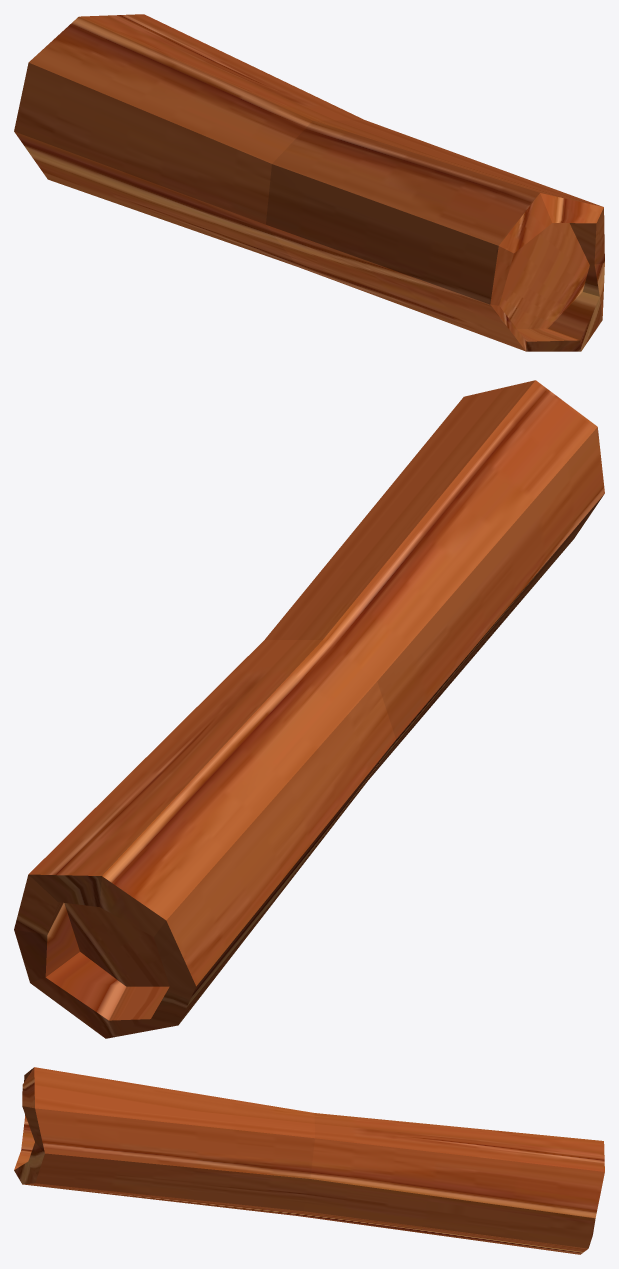
File: log.fbx
3 views of the same model, one above another, from view 1: azimuth 30°, elevation 25°; view 2: azimuth 150°, elevation 25°; view 3: azimuth 270°, elevation 25° (orthographic). The views are drawn at different scales.
Visible parts, largest first — view 1: Cylinder.001; view 2: Cylinder.001; view 3: Cylinder.001.
Part boxes in pixels (box(x1,y1,x2,y2)): Cylinder.001: box(14, 14, 604, 351); Cylinder.001: box(14, 380, 604, 1038); Cylinder.001: box(14, 1067, 604, 1254).
Size of the model in its own units: 957 by 1459 by 4020.
Materials: 1 (1 with a texture image).
